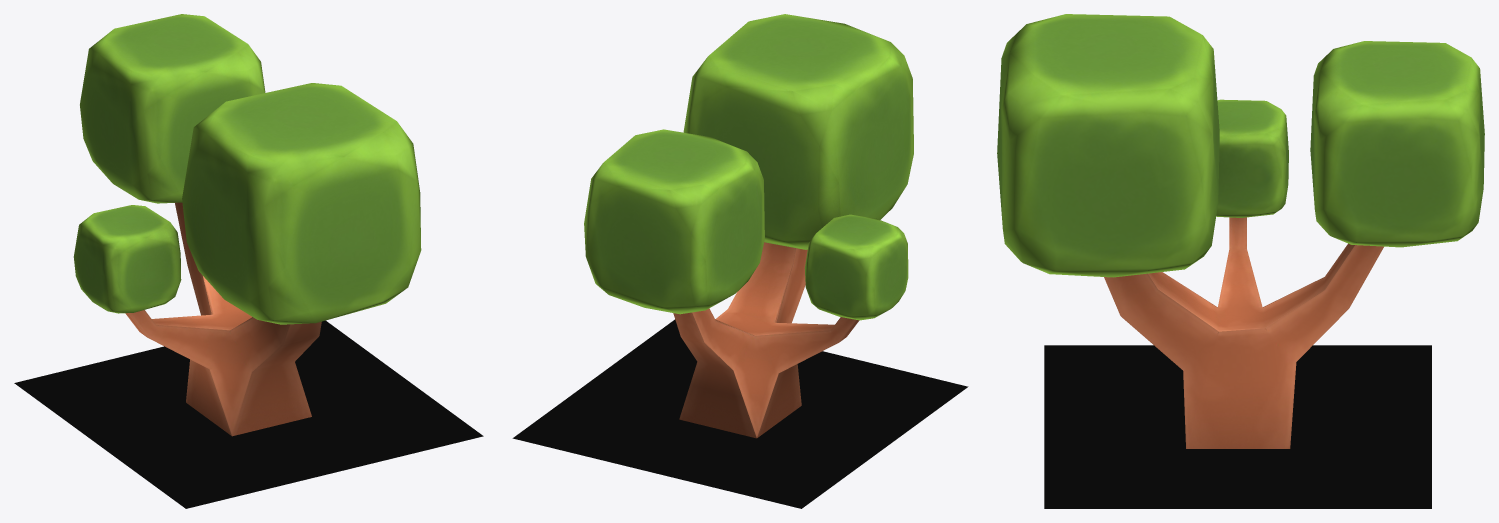
The model's file is tree_2.fbx.
3 views of the same model, side by side, from view 1: azimuth 30°, elevation 25°; view 2: azimuth 150°, elevation 25°; view 3: azimuth 270°, elevation 25° (orthographic). The views are drawn at different scales.
Parts seen in each view (by area): view 1: tree_2, shadow_1.001; view 2: tree_2, shadow_1.001; view 3: tree_2, shadow_1.001.
Boxes of the visible parts, x1=… form: tree_2: x1=73, y1=14, x2=421, y2=436; shadow_1.001: x1=14, y1=320, x2=483, y2=508; tree_2: x1=584, y1=14, x2=913, y2=438; shadow_1.001: x1=512, y1=319, x2=968, y2=508; tree_2: x1=997, y1=14, x2=1484, y2=448; shadow_1.001: x1=1044, y1=345, x2=1431, y2=508.
Bounding box in the file's own units: 486 × 508 × 592.
